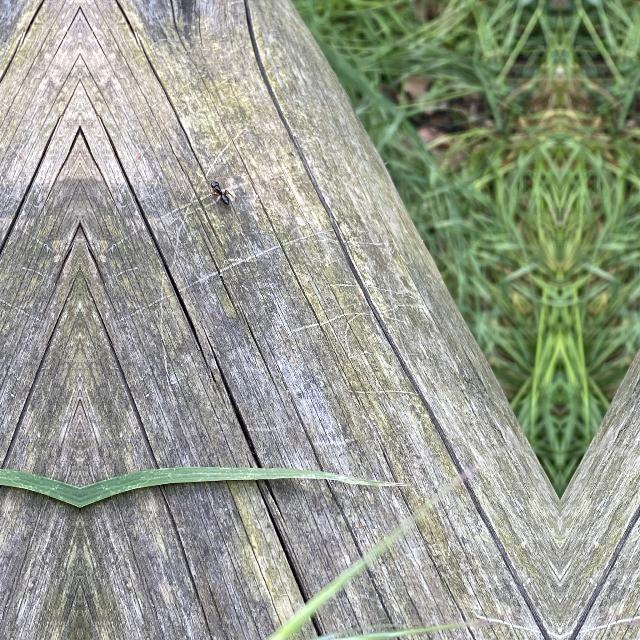Camponotus: (208, 176, 232, 208)
